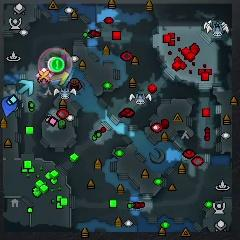Other: (35, 67, 53, 86), (50, 58, 64, 73)
p1: (1, 96, 18, 118)
p3: (53, 54, 67, 75)
x2: (51, 71, 71, 86)
x3: (18, 80, 34, 96)
